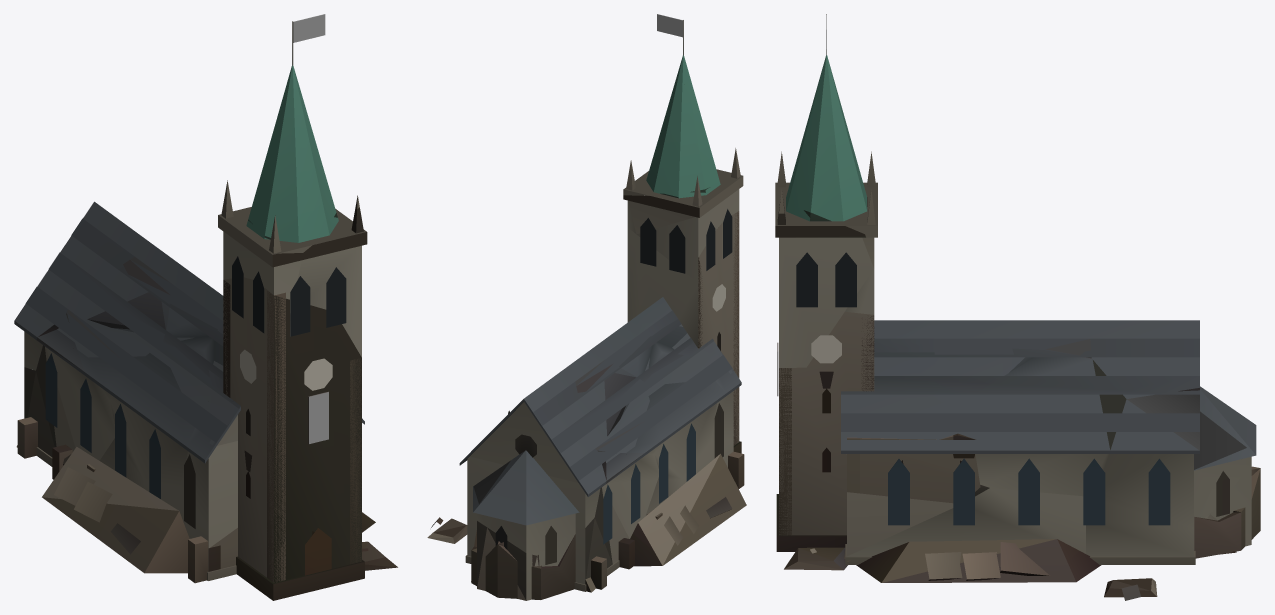
Rendered from bld_any_church_fractured.glb.
3 views of the same model, side by side, from view 1: azimuth 30°, elevation 25°; view 2: azimuth 150°, elevation 25°; view 3: azimuth 270°, elevation 25° (orthographic). The views are drawn at different scales.
Visible parts, largest first — view 1: bld_any_church_RUIN_LOD0_mesh, bld_any_church_DMG_mesh, bld_any_church_FRAC_10_mesh, bld_any_church_FRAC_19_mesh, bld_any_church_FRAC_05_mesh, bld_any_church_FRAC_22_mesh, bld_any_church_FRAC_00_mesh, bld_any_church_FRAC_15_mesh, bld_any_church_RUIN_LOD1_mesh, bld_any_church_FRAC_24_mesh, bld_any_church_FRAC_07_mesh, bld_any_church_FRAC_20_mesh (+5 smaller); view 2: bld_any_church_DMG_mesh, bld_any_church_RUIN_LOD0_mesh, bld_any_church_FRAC_15_mesh, bld_any_church_FRAC_10_mesh, bld_any_church_FRAC_05_mesh, bld_any_church_FRAC_19_mesh, bld_any_church_FRAC_00_mesh, bld_any_church_FRAC_20_mesh, bld_any_church_FRAC_13_mesh, bld_any_church_FRAC_14_mesh, bld_any_church_FRAC_24_mesh, bld_any_church_FRAC_07_mesh (+4 smaller); view 3: bld_any_church_DMG_mesh, bld_any_church_RUIN_LOD0_mesh, bld_any_church_FRAC_09_mesh, bld_any_church_FRAC_10_mesh, bld_any_church_FRAC_03_mesh, bld_any_church_FRAC_05_mesh, bld_any_church_RUIN_LOD1_mesh, bld_any_church_FRAC_11_mesh, bld_any_church_FRAC_24_mesh, bld_any_church_FRAC_13_mesh, bld_any_church_FRAC_14_mesh, bld_any_church_FRAC_15_mesh (+5 smaller).
Part boxes in pixels (x1,y1,x2,y2): bld_any_church_RUIN_LOD0_mesh: [17, 277, 397, 600]; bld_any_church_DMG_mesh: [24, 196, 367, 580]; bld_any_church_FRAC_10_mesh: [221, 97, 336, 253]; bld_any_church_FRAC_19_mesh: [65, 244, 175, 373]; bld_any_church_FRAC_05_mesh: [58, 201, 152, 298]; bld_any_church_FRAC_22_mesh: [184, 391, 237, 528]; bld_any_church_FRAC_00_mesh: [115, 340, 213, 484]; bld_any_church_FRAC_15_mesh: [14, 254, 72, 370]; bld_any_church_RUIN_LOD1_mesh: [65, 391, 328, 571]; bld_any_church_FRAC_24_mesh: [164, 261, 223, 346]; bld_any_church_FRAC_07_mesh: [45, 316, 116, 452]; bld_any_church_FRAC_20_mesh: [218, 207, 278, 266]; bld_any_church_DMG_mesh: [460, 187, 741, 600]; bld_any_church_RUIN_LOD0_mesh: [427, 211, 746, 599]; bld_any_church_FRAC_15_mesh: [473, 434, 606, 564]; bld_any_church_FRAC_10_mesh: [623, 81, 740, 206]; bld_any_church_FRAC_05_mesh: [491, 364, 588, 446]; bld_any_church_FRAC_19_mesh: [571, 351, 656, 452]; bld_any_church_FRAC_00_mesh: [644, 353, 715, 475]; bld_any_church_FRAC_20_mesh: [640, 175, 743, 272]; bld_any_church_FRAC_13_mesh: [459, 432, 511, 532]; bld_any_church_FRAC_14_mesh: [637, 238, 725, 356]; bld_any_church_FRAC_24_mesh: [589, 315, 655, 380]; bld_any_church_FRAC_07_mesh: [599, 452, 660, 542]; bld_any_church_DMG_mesh: [775, 194, 1246, 564]; bld_any_church_RUIN_LOD0_mesh: [776, 312, 1260, 600]; bld_any_church_FRAC_09_mesh: [841, 382, 975, 504]; bld_any_church_FRAC_10_mesh: [775, 86, 877, 234]; bld_any_church_FRAC_03_mesh: [775, 189, 872, 367]; bld_any_church_FRAC_05_mesh: [1089, 320, 1199, 398]; bld_any_church_RUIN_LOD1_mesh: [777, 342, 1078, 582]; bld_any_church_FRAC_11_mesh: [964, 350, 1122, 496]; bld_any_church_FRAC_24_mesh: [934, 320, 1046, 400]; bld_any_church_FRAC_13_mesh: [1096, 390, 1256, 521]; bld_any_church_FRAC_14_mesh: [811, 320, 934, 387]; bld_any_church_FRAC_15_mesh: [1200, 386, 1256, 464].
Bounding box in the file's own units: 20.19 × 40.68 × 33.55.
